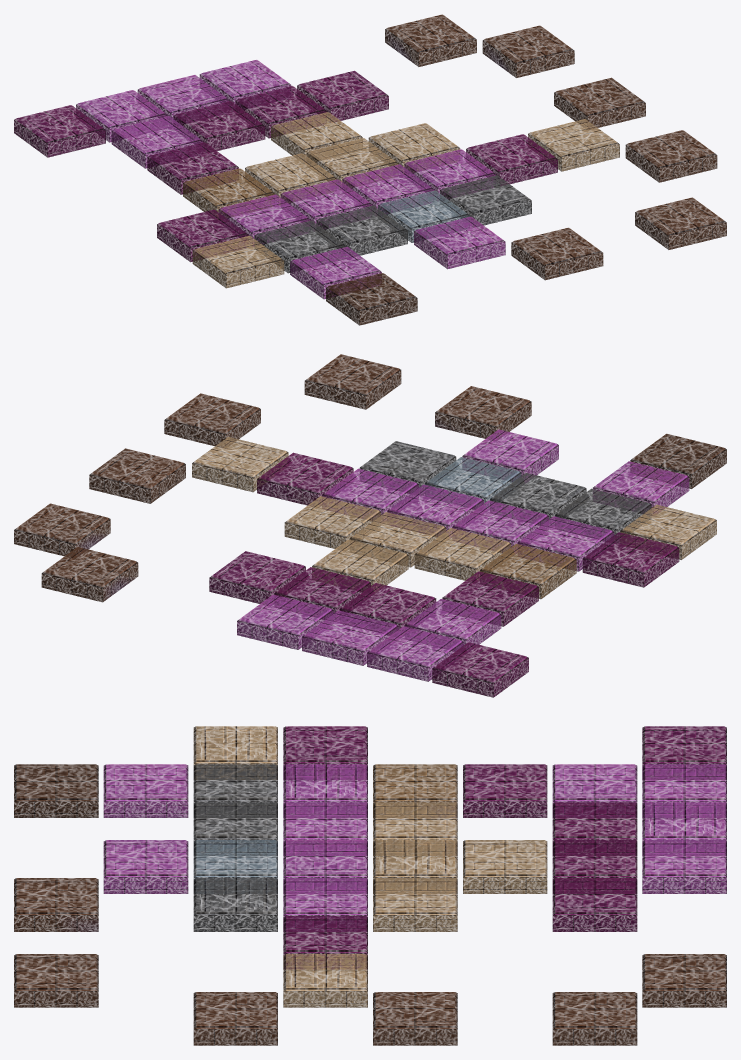
The picture shows the model from 3 angles, top to bottom: view 1: azimuth 30°, elevation 25°; view 2: azimuth 150°, elevation 25°; view 3: azimuth 270°, elevation 25°; orthographic projection. The views are drawn at different scales.
Visible parts, largest first — view 1: Cube; view 2: Cube; view 3: Cube.
Boxes of the visible parts, x1,y1,x2,y2 form: Cube: (14, 14, 726, 325); Cube: (14, 354, 726, 697); Cube: (14, 726, 726, 1045).
Size of what is drawn, in the model's own units: 33.75 by 1 by 33.75.
1 material, 1 textured.
